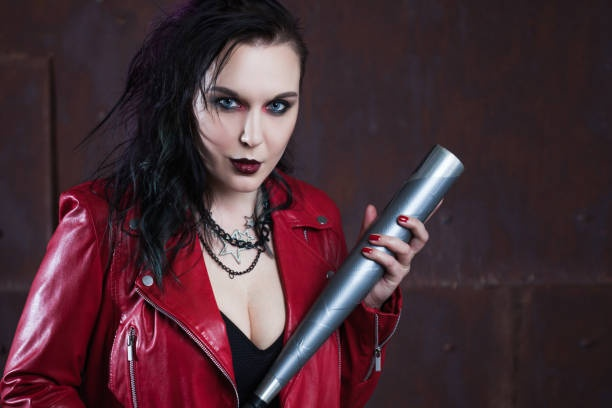bita: (249, 148, 469, 403)
